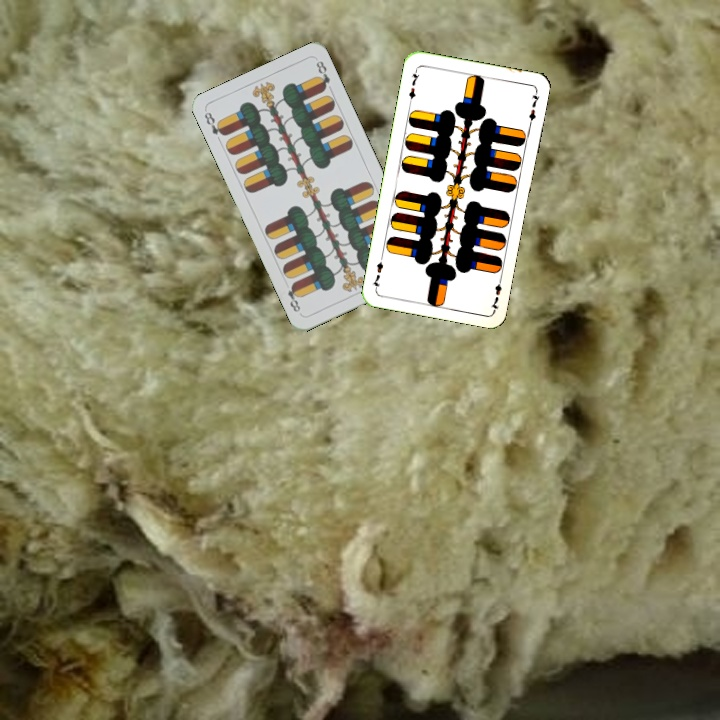E7: (405, 65, 422, 106), (487, 272, 504, 313)
E8: (200, 108, 228, 138)
